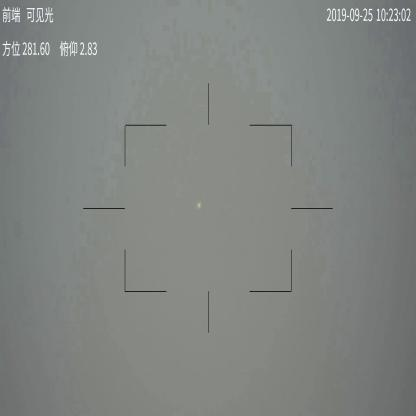uav: (196, 200, 203, 208)
